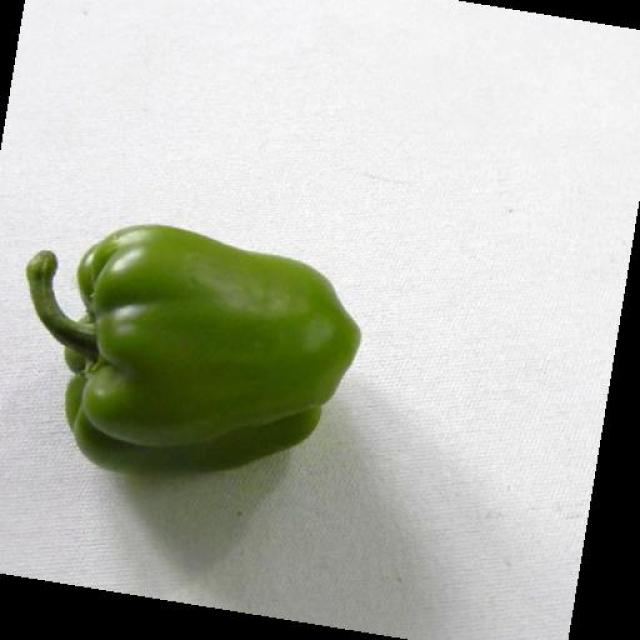Fresh_Capsicum: (22, 207, 406, 482)
